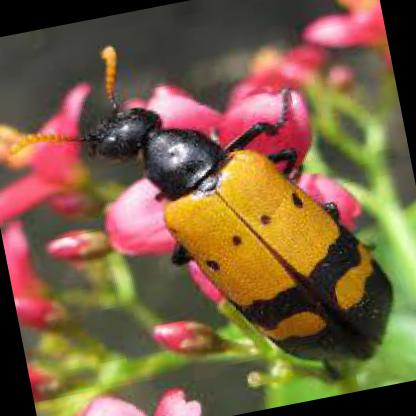blister beetle: (4, 48, 393, 362)
